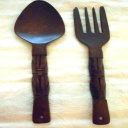fork: (69, 3, 119, 123)
